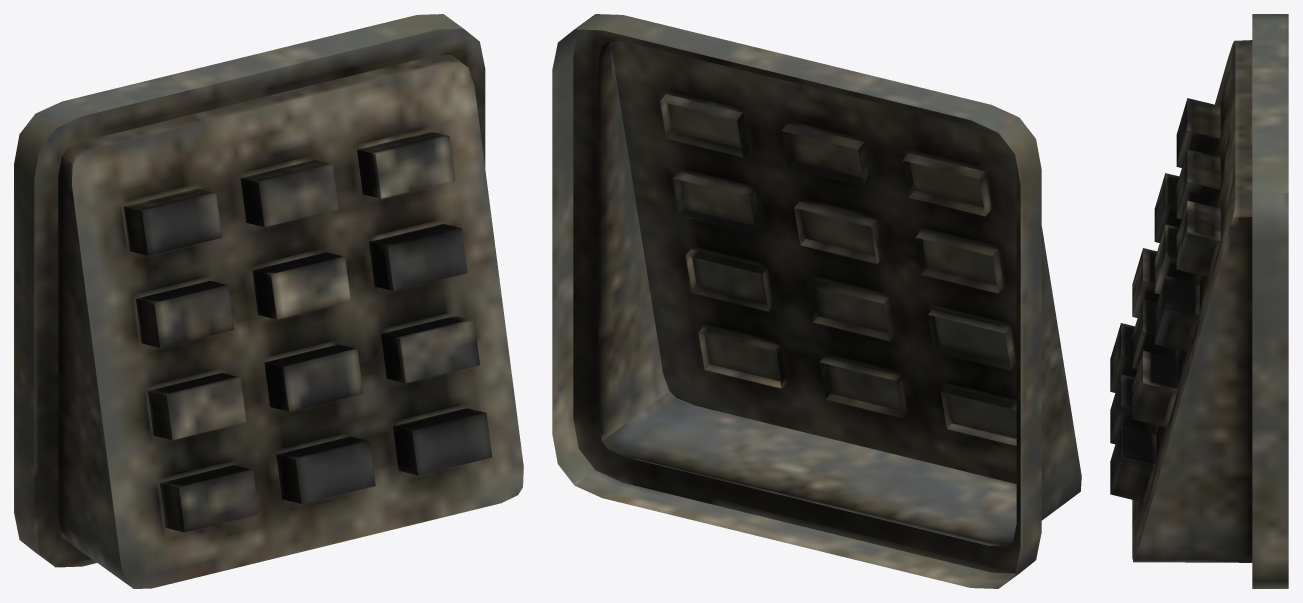
File: LockKeypad.FBX
The picture shows the model from 3 angles, left to right: view 1: azimuth 30°, elevation 25°; view 2: azimuth 150°, elevation 25°; view 3: azimuth 270°, elevation 25°; orthographic projection. The views are drawn at different scales.
Visible parts, largest first — view 1: LockKeypad; view 2: LockKeypad; view 3: LockKeypad.
Part boxes in pixels (box(x1,y1,x2,y2)): LockKeypad: box(14, 14, 523, 588); LockKeypad: box(552, 14, 1081, 588); LockKeypad: box(1110, 14, 1288, 588).
Bounding box in the file's own units: 18.76 × 17.9 × 7.14.
